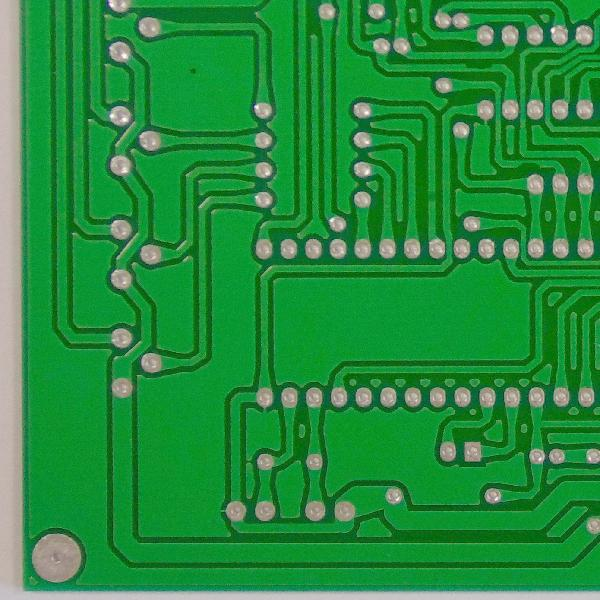mouse_bite: (459, 60, 497, 75), (514, 157, 545, 172)
